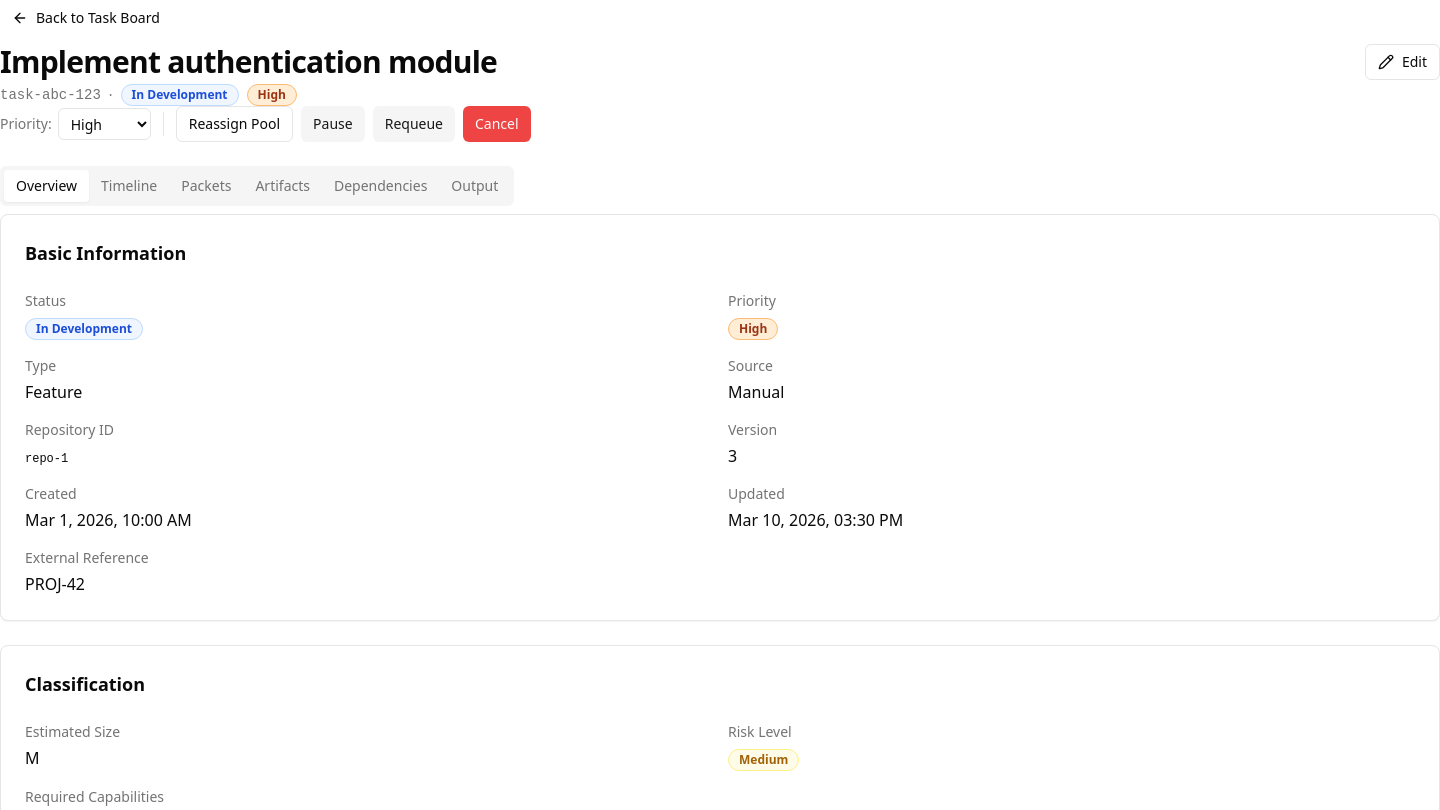
Test case: TaskDetailPage › opens edit dialog when edit button is clicked
What coordinates should you click on to do the following:
click the button with test id "edit-task-button"
I would click on:
 (1402, 62)
Its box is [1365,44,1439,80].
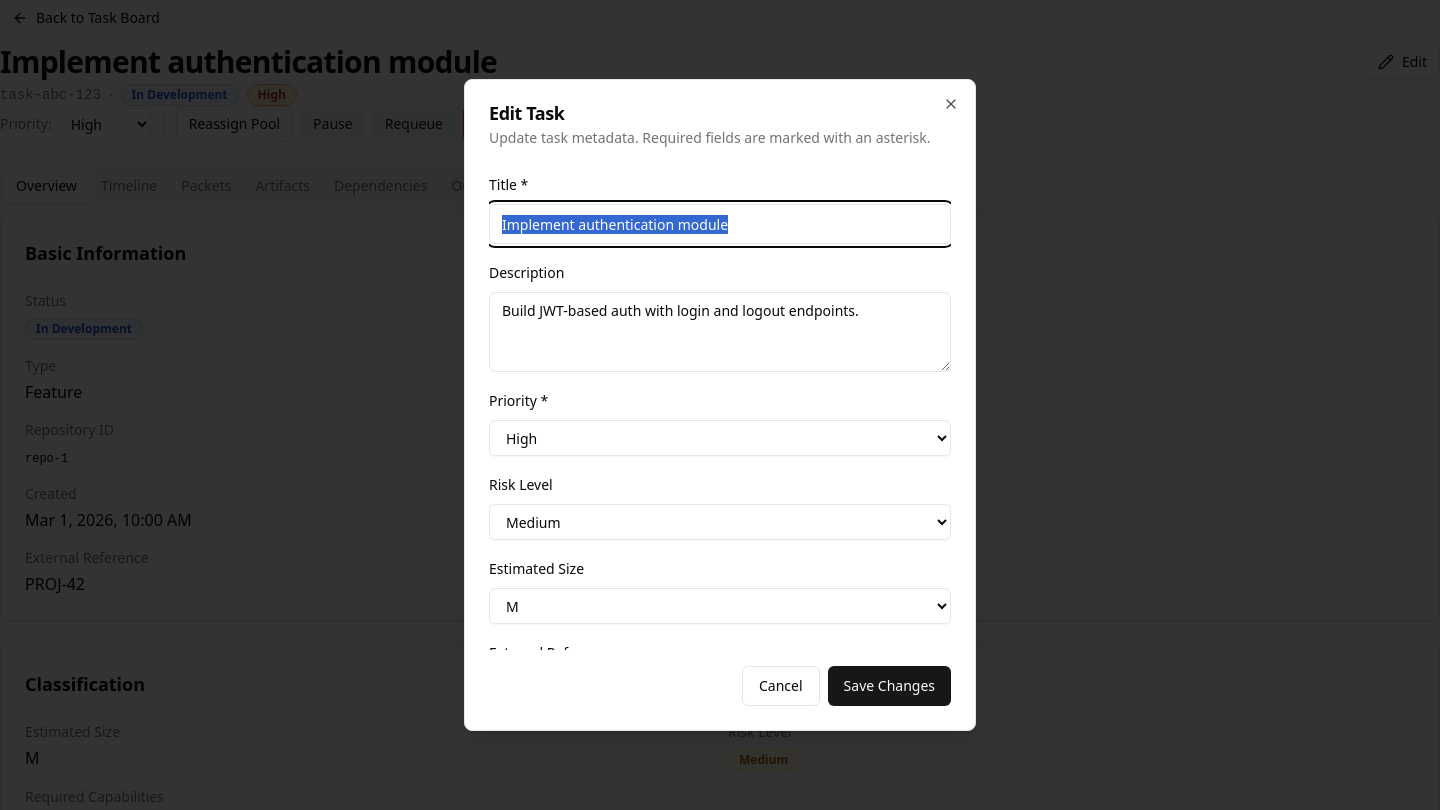
Now the dialog with test id "edit-task-dialog" is shown, box [464,79,976,731]
Now the heading with test id "edit-task-dialog-title" reads "Edit Task", box [489,101,564,125]
